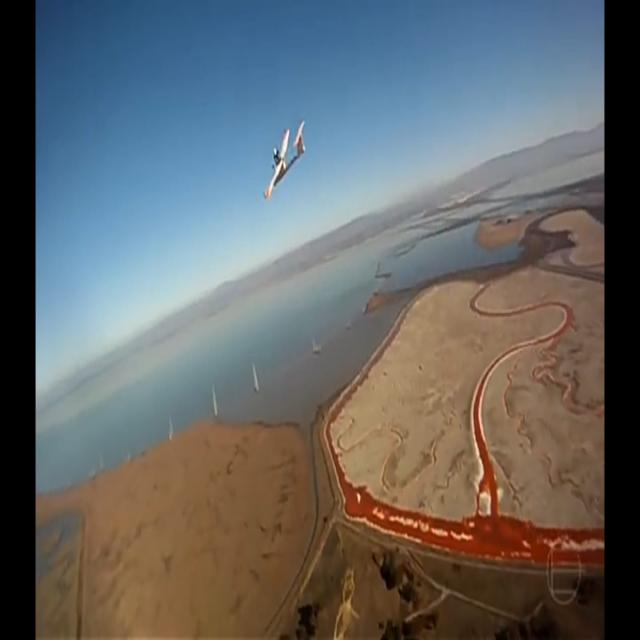iha: (262, 150, 307, 170)
